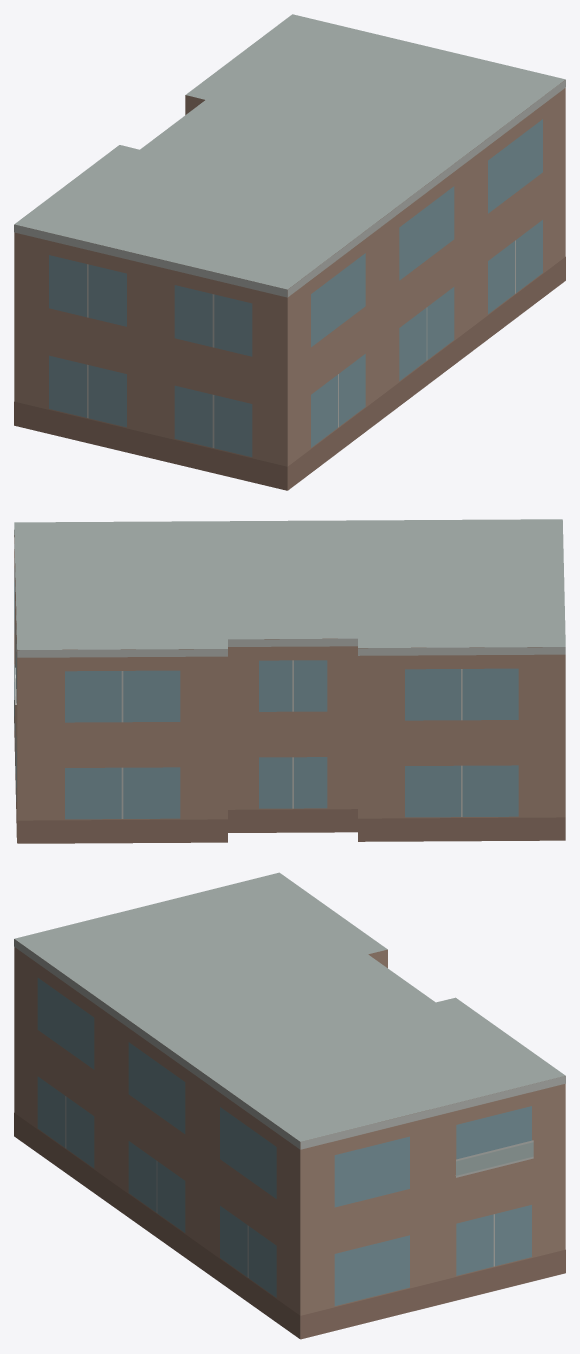
File: survey-upis-32985160.glb
3 renders of one model, top to bottom at view 1: azimuth 30°, elevation 25°; view 2: azimuth 150°, elevation 25°; view 3: azimuth 270°, elevation 25°, orthographic. The views are drawn at different scales.
Visible parts, largest first — view 1: survey-upis-32985160.tmp; view 2: survey-upis-32985160.tmp; view 3: survey-upis-32985160.tmp.
Boxes of the visible parts, x1,y1,x2,y2 form: survey-upis-32985160.tmp: [14, 14, 565, 490]; survey-upis-32985160.tmp: [14, 519, 565, 843]; survey-upis-32985160.tmp: [14, 872, 565, 1339].
Size of the model in its own units: 17.85 by 6.1 by 15.45.
